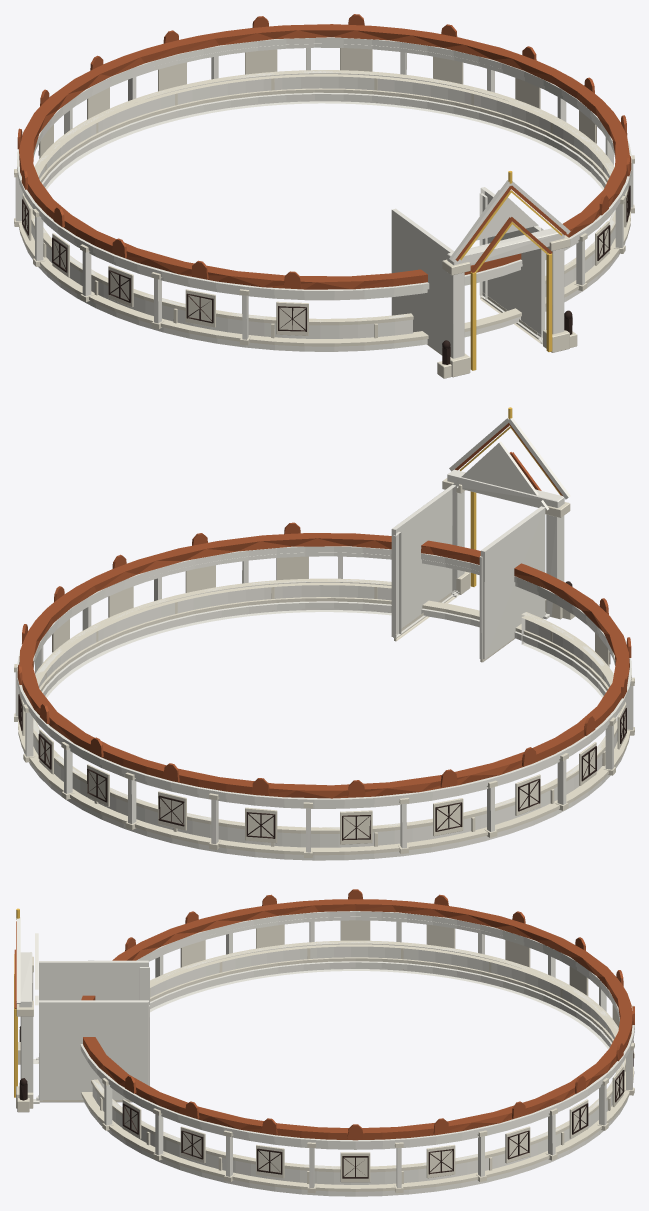
Rendered from HNP_Chedi_M03_ReferenceFacade_v004.fbx.
3 renders of one model, top to bottom at view 1: azimuth 30°, elevation 25°; view 2: azimuth 150°, elevation 25°; view 3: azimuth 270°, elevation 25°, orthographic. The views are drawn at different scales.
Parts seen in each view (by area): view 1: HNP_Chedi_v004_M03_ReferenceFacade__HNP_Chedi_White, HNP_Chedi_v004_M03_ReferenceFacade__HNP_Chedi_Ivory, HNP_Chedi_v004_M03_ReferenceFacade__HNP_Chedi_Terracotta, HNP_Chedi_v004_M03_ReferenceFacade__HNP_Chedi_DarkInset, HNP_Chedi_v004_M03_ReferenceFacade__HNP_Chedi_GoldTrim; view 2: HNP_Chedi_v004_M03_ReferenceFacade__HNP_Chedi_White, HNP_Chedi_v004_M03_ReferenceFacade__HNP_Chedi_Ivory, HNP_Chedi_v004_M03_ReferenceFacade__HNP_Chedi_Terracotta, HNP_Chedi_v004_M03_ReferenceFacade__HNP_Chedi_DarkInset, HNP_Chedi_v004_M03_ReferenceFacade__HNP_Chedi_GoldTrim; view 3: HNP_Chedi_v004_M03_ReferenceFacade__HNP_Chedi_White, HNP_Chedi_v004_M03_ReferenceFacade__HNP_Chedi_Ivory, HNP_Chedi_v004_M03_ReferenceFacade__HNP_Chedi_Terracotta, HNP_Chedi_v004_M03_ReferenceFacade__HNP_Chedi_DarkInset.
Part boxes in pixels (x1,y1,x2,y2): HNP_Chedi_v004_M03_ReferenceFacade__HNP_Chedi_White: (15,37,633,358); HNP_Chedi_v004_M03_ReferenceFacade__HNP_Chedi_Ivory: (14,48,634,378); HNP_Chedi_v004_M03_ReferenceFacade__HNP_Chedi_Terracotta: (17,14,631,289); HNP_Chedi_v004_M03_ReferenceFacade__HNP_Chedi_DarkInset: (22,126,630,364); HNP_Chedi_v004_M03_ReferenceFacade__HNP_Chedi_GoldTrim: (460,171,562,370); HNP_Chedi_v004_M03_ReferenceFacade__HNP_Chedi_White: (15,417,633,860); HNP_Chedi_v004_M03_ReferenceFacade__HNP_Chedi_Ivory: (14,478,634,857); HNP_Chedi_v004_M03_ReferenceFacade__HNP_Chedi_Terracotta: (17,423,631,798); HNP_Chedi_v004_M03_ReferenceFacade__HNP_Chedi_DarkInset: (18,581,626,840); HNP_Chedi_v004_M03_ReferenceFacade__HNP_Chedi_GoldTrim: (459,407,561,586); HNP_Chedi_v004_M03_ReferenceFacade__HNP_Chedi_White: (16,911,634,1196); HNP_Chedi_v004_M03_ReferenceFacade__HNP_Chedi_Ivory: (16,920,634,1193); HNP_Chedi_v004_M03_ReferenceFacade__HNP_Chedi_Terracotta: (14,889,634,1140); HNP_Chedi_v004_M03_ReferenceFacade__HNP_Chedi_DarkInset: (19,1026,633,1178).
Bounding box in the file's own units: 47.9 × 16.4 × 53.22.
